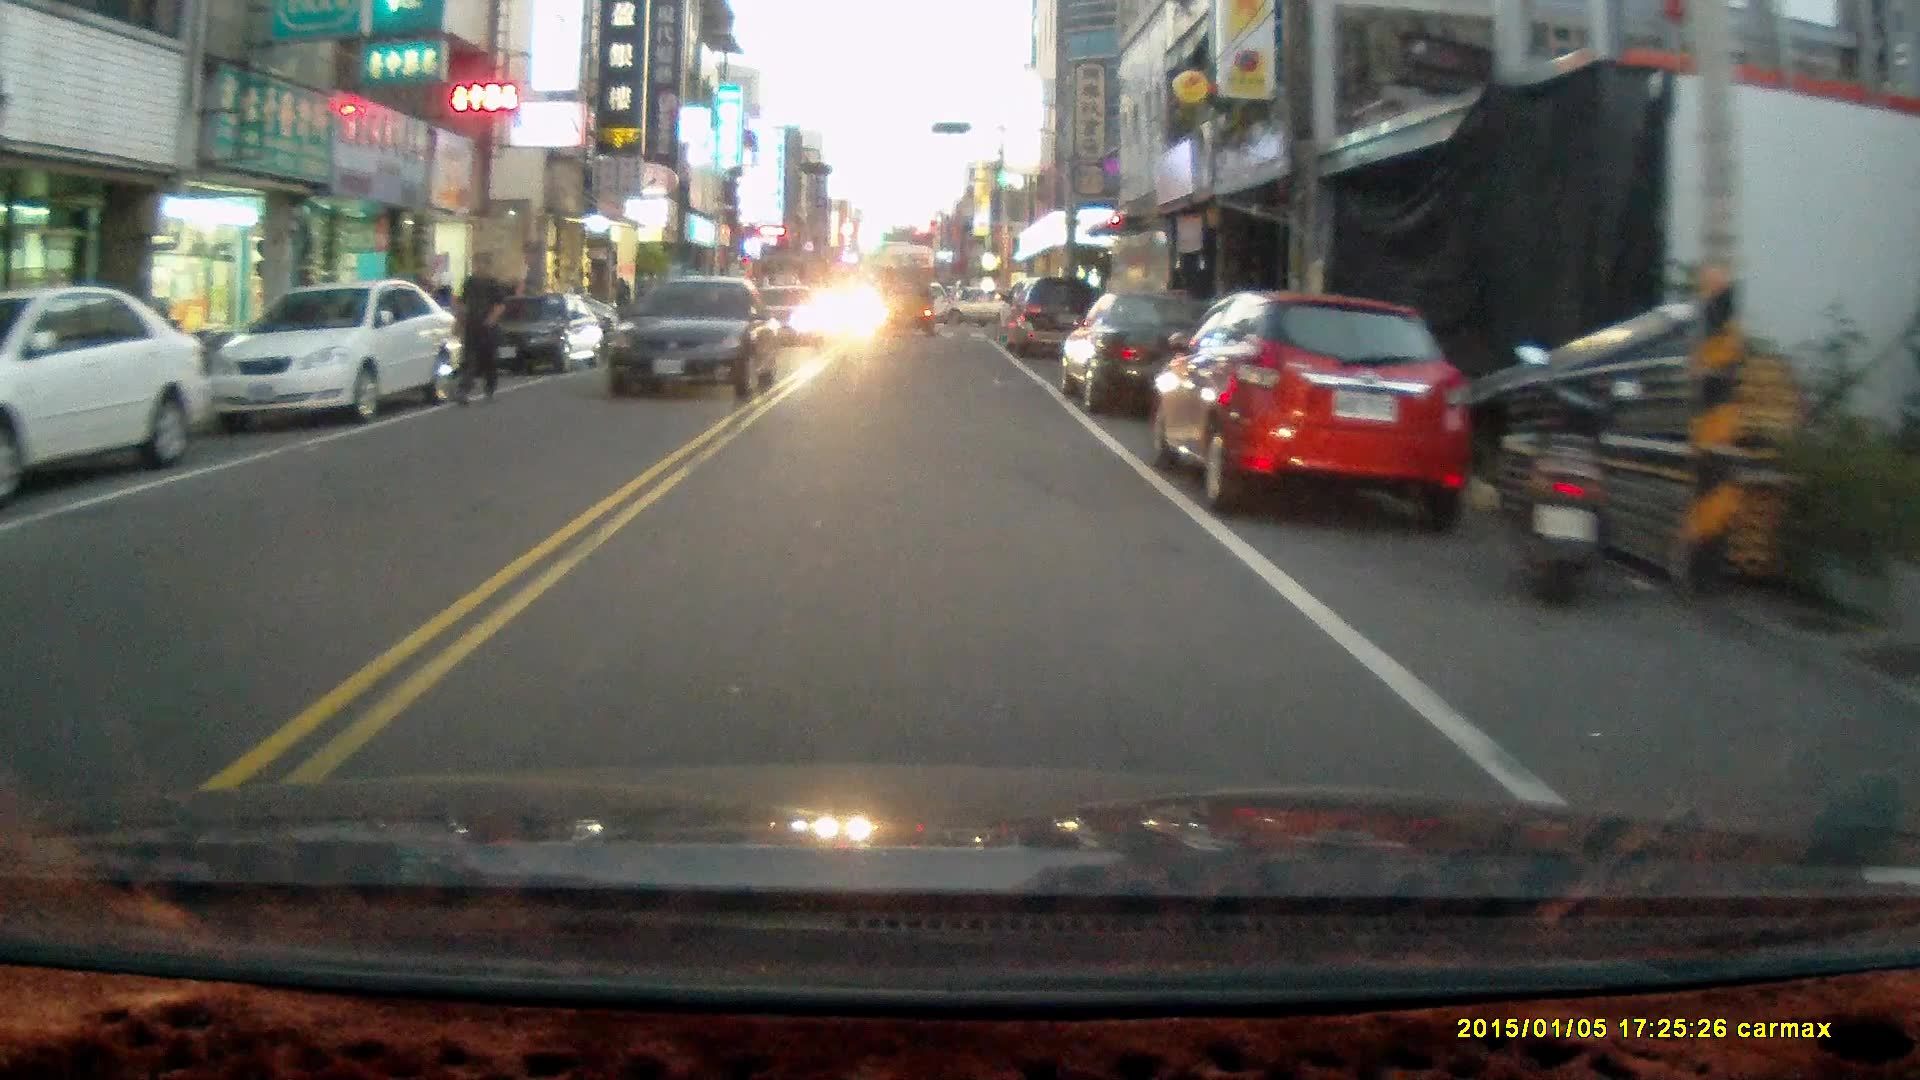pedestrian: (448, 248, 508, 407)
vehicle: (1155, 295, 1475, 524), (1, 286, 211, 501), (211, 279, 466, 427), (605, 275, 786, 404), (1060, 288, 1223, 420), (479, 289, 602, 381), (997, 273, 1110, 363), (872, 264, 938, 336)
